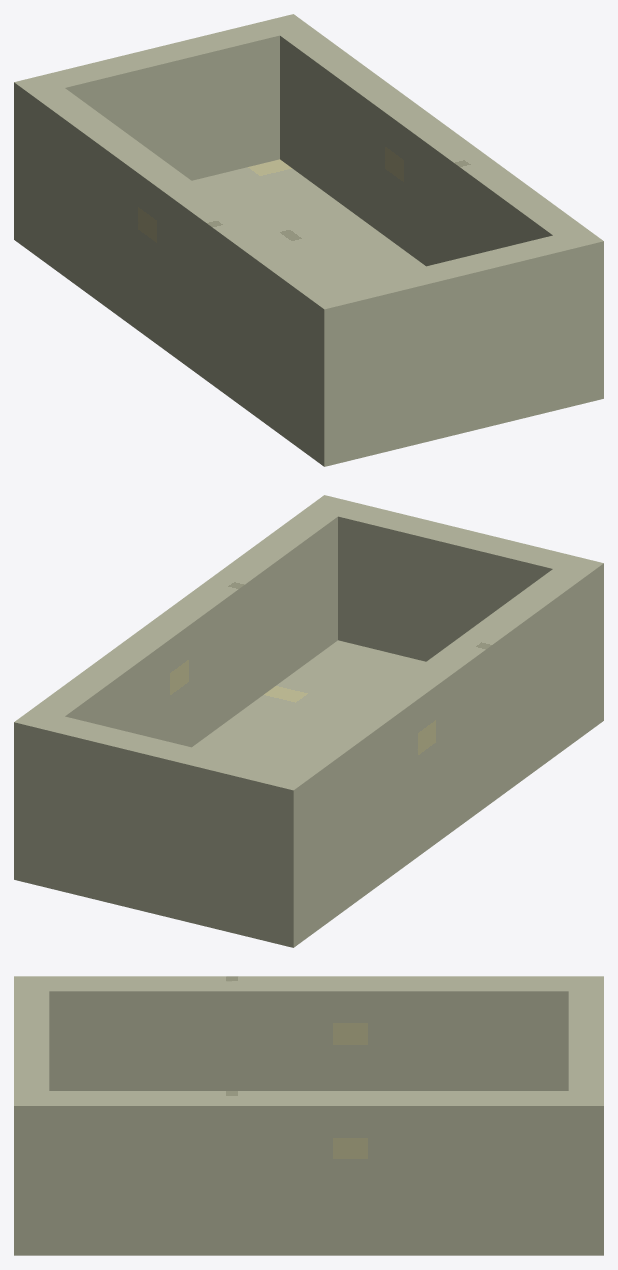
Rendered from bathtub.gltf.
3 renders of one model, top to bottom at view 1: azimuth 30°, elevation 25°; view 2: azimuth 150°, elevation 25°; view 3: azimuth 270°, elevation 25°, orthographic. The views are drawn at different scales.
Parts seen in each view (by area): view 1: side (×2), end (×2), base; view 2: side (×2), end (×2), base; view 3: side (×2), base, end (×2).
Part boxes in pixels (left/top/right/bottom): side (×2): left=14, top=14, right=603, bottom=432; end (×2): left=46, top=22, right=571, bottom=424; base: left=14, top=159, right=603, bottom=466; side (×2): left=14, top=495, right=603, bottom=913; end (×2): left=46, top=503, right=571, bottom=905; base: left=14, top=640, right=603, bottom=947; side (×2): left=14, top=976, right=603, bottom=1223; base: left=14, top=1223, right=603, bottom=1255; end (×2): left=14, top=991, right=603, bottom=1090.
Bounding box in the file's own units: 1.62 × 0.875 × 3.12.
2 materials, 2 textured.
